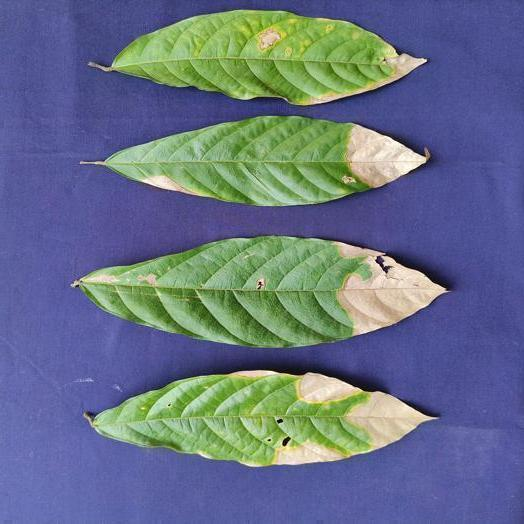Potassium: (74, 236, 445, 347), (86, 371, 431, 466), (94, 10, 425, 105), (81, 116, 428, 205)
